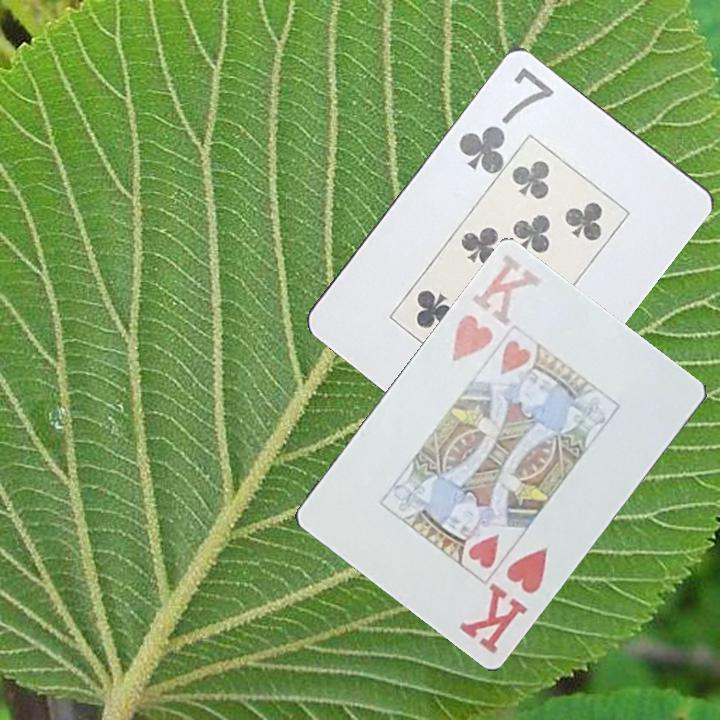7c: (454, 63, 556, 176)
Kh: (446, 251, 545, 366), (455, 543, 552, 658)
